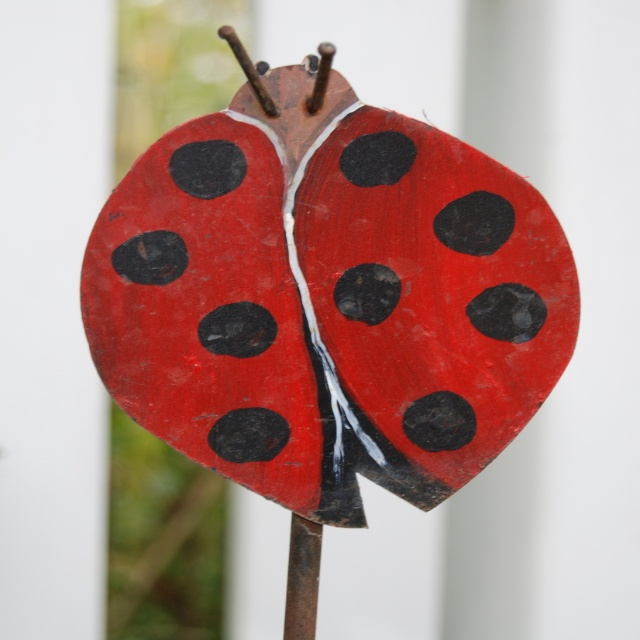Ladybug: (76, 33, 590, 533)
